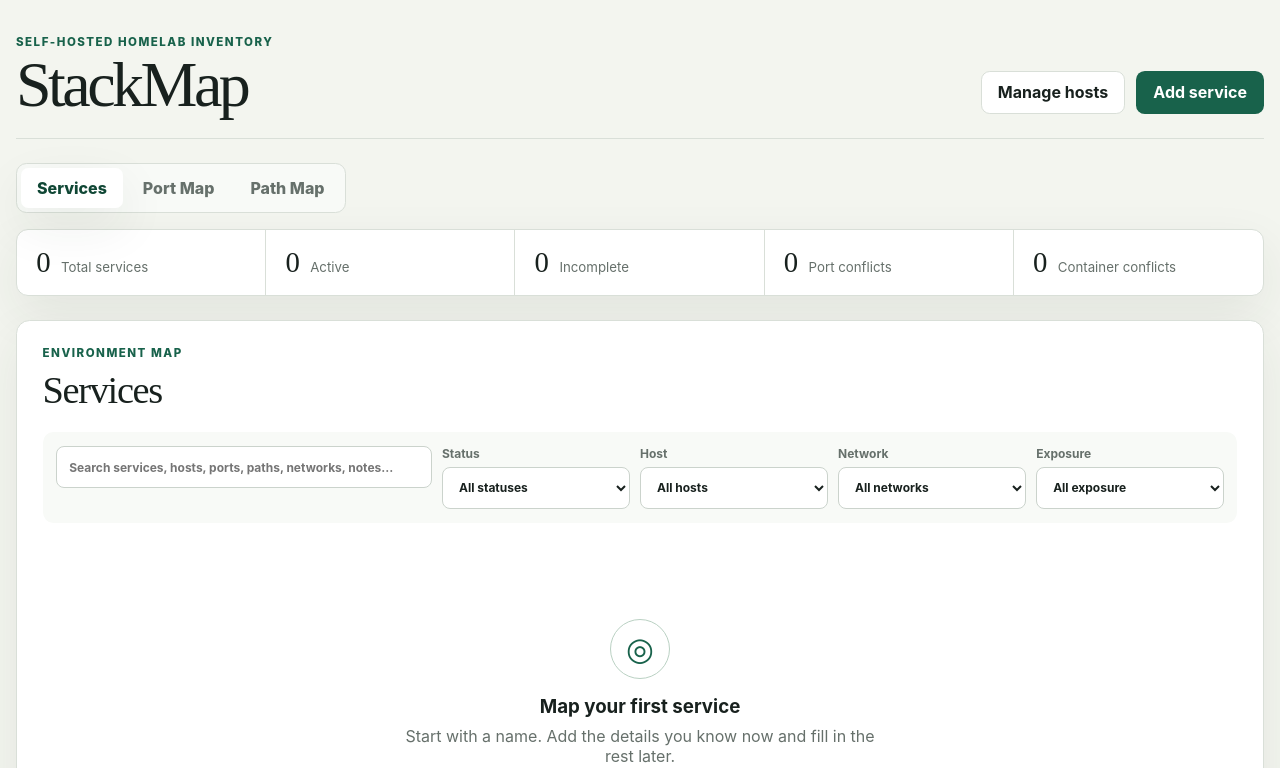
StackMap service workflows › creates a service with only a name
The image size is (1280, 768).
Click the button "Add service" at (1200, 92), box left=1136, top=71, right=1264, bottom=114
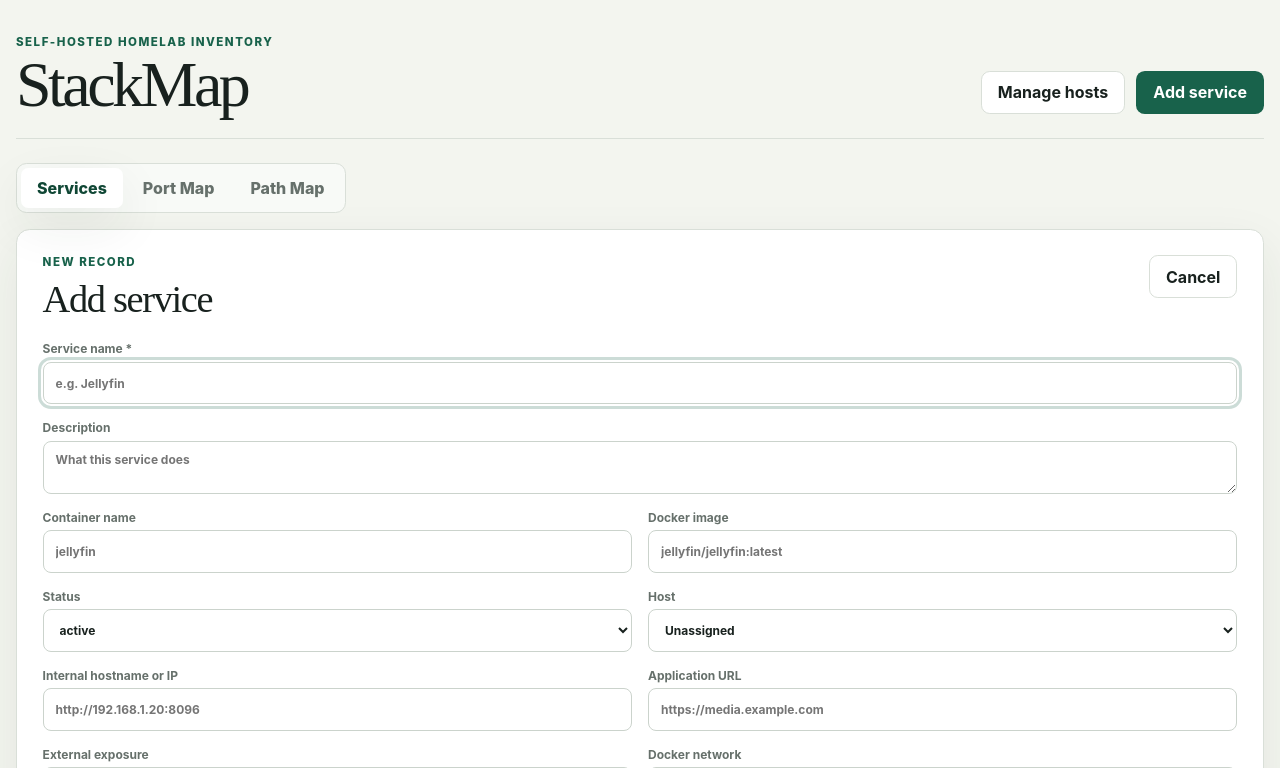
Type "Jellyfin" into the field labelled "Service name *" at (640, 383), box left=43, top=362, right=1237, bottom=404
(page scrolled)
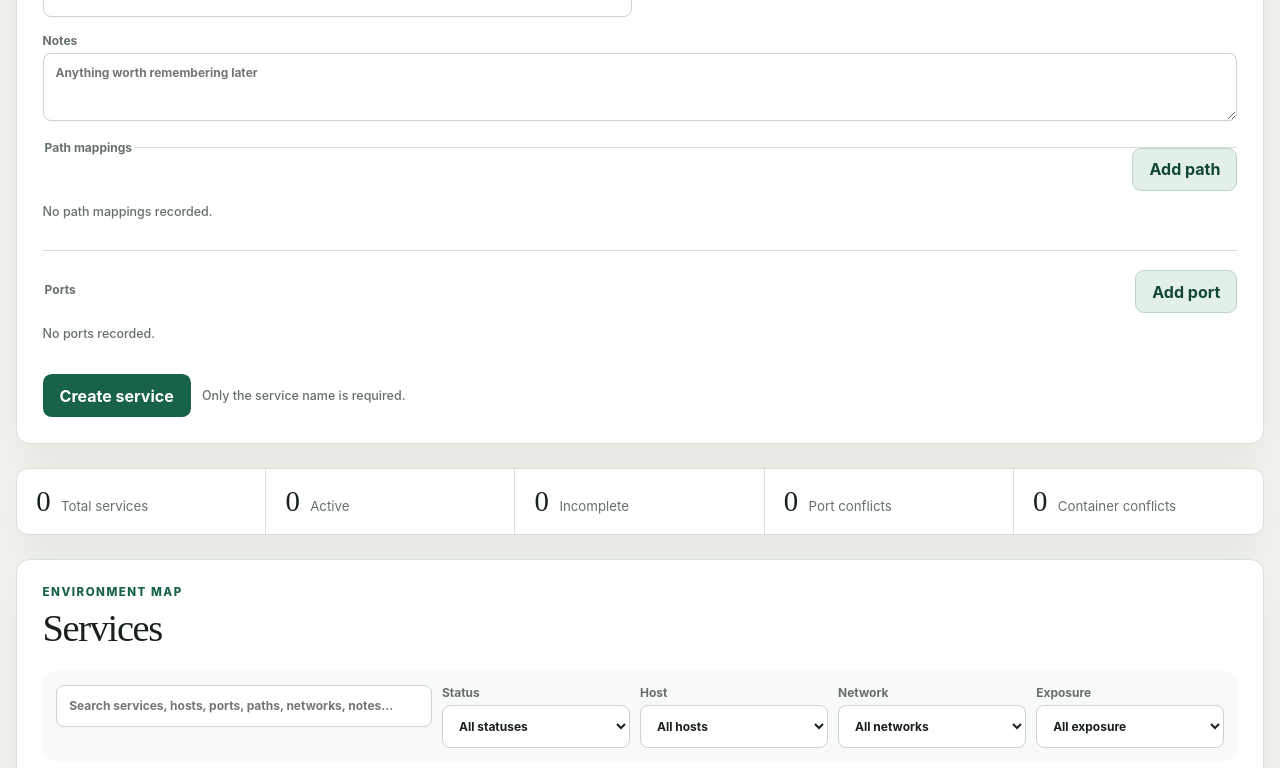
Click the button "Create service" at (117, 396), box left=43, top=374, right=191, bottom=417
(page scrolled)
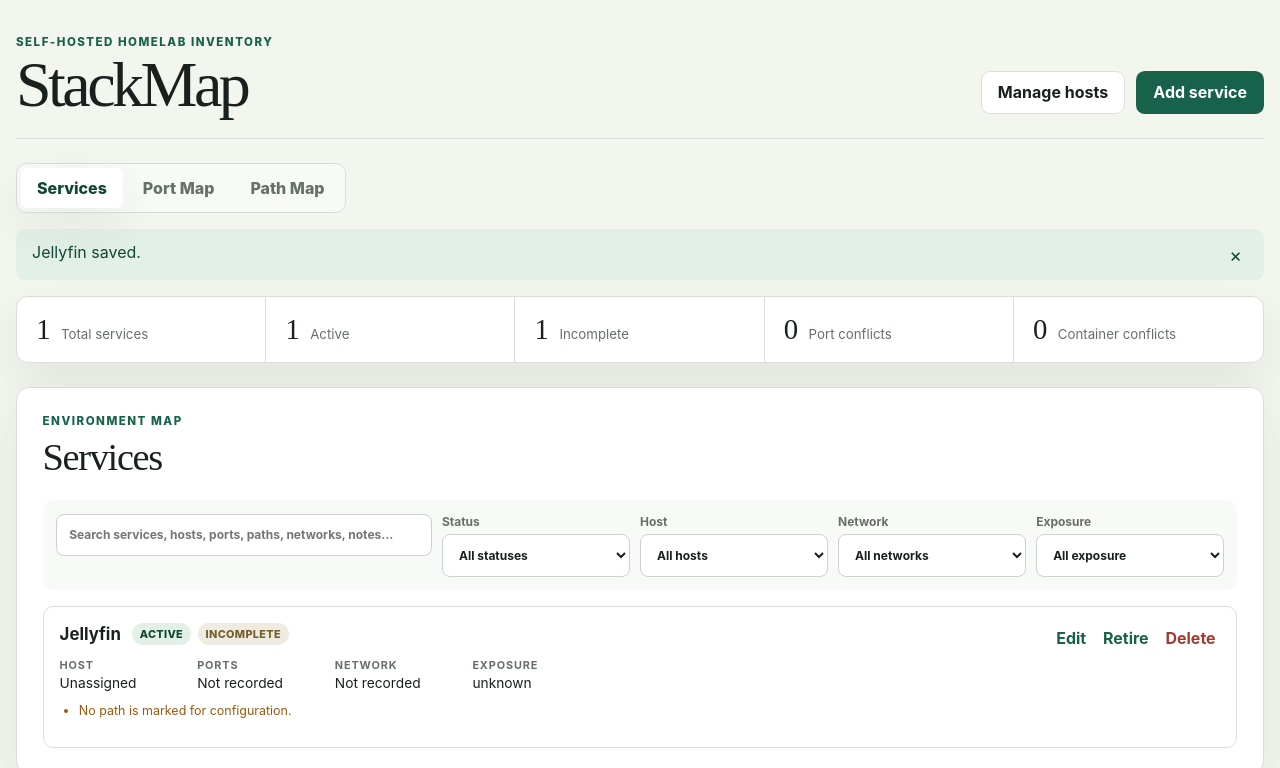
Check: the heading "Jellyfin" is shown, box left=60, top=624, right=121, bottom=644
Check: the text "Incomplete" is shown 2 times, box left=559, top=326, right=629, bottom=342; left=198, top=623, right=289, bottom=645
